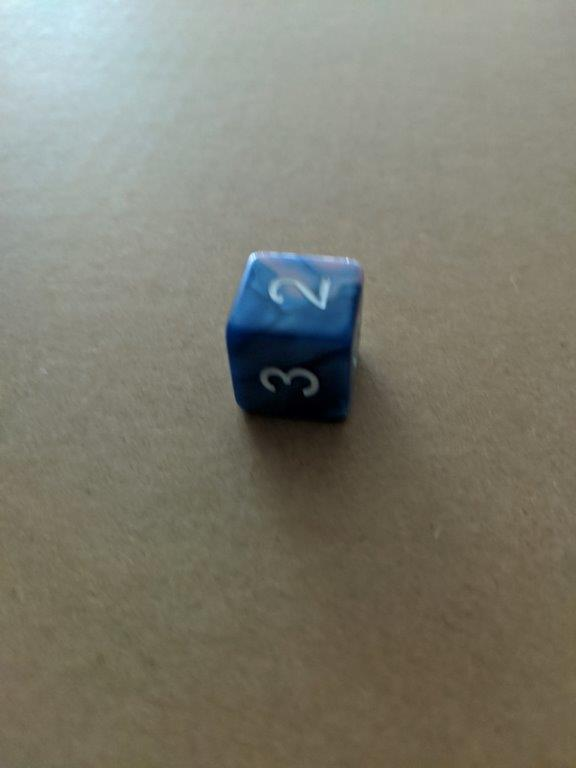d6-2: (224, 251, 365, 428)
